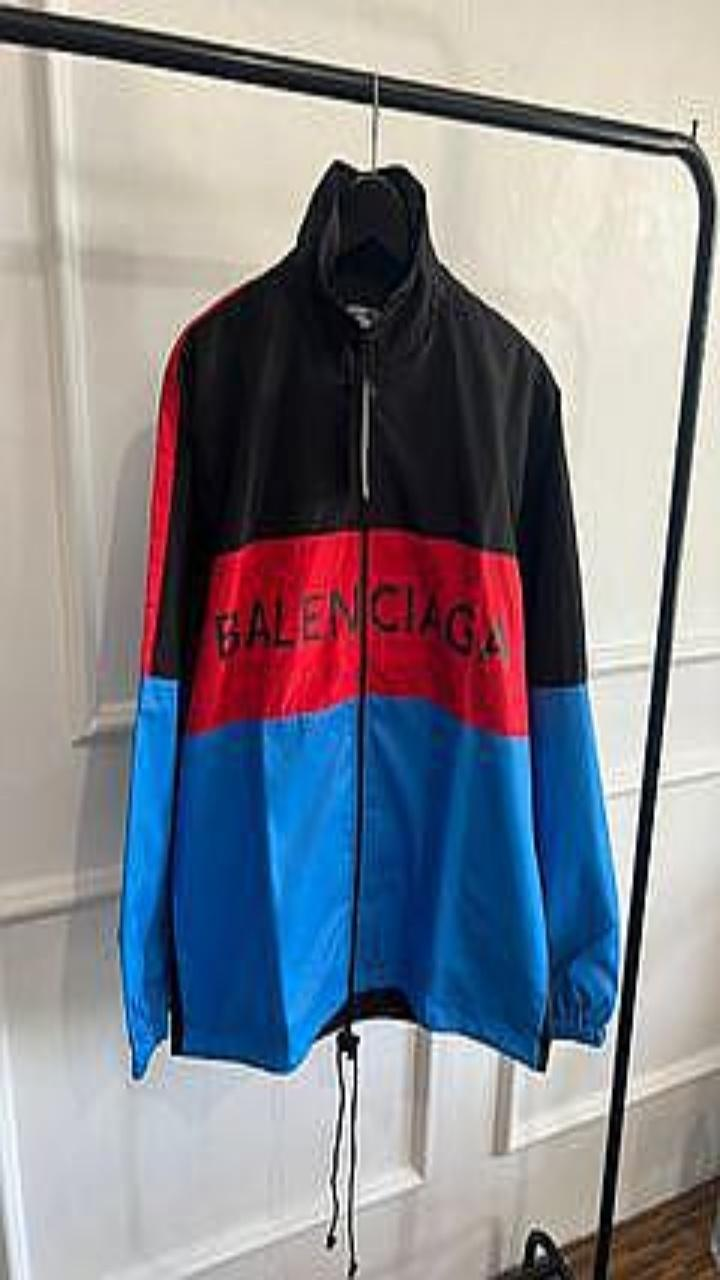Sports_Jacket: (118, 159, 618, 1106)
